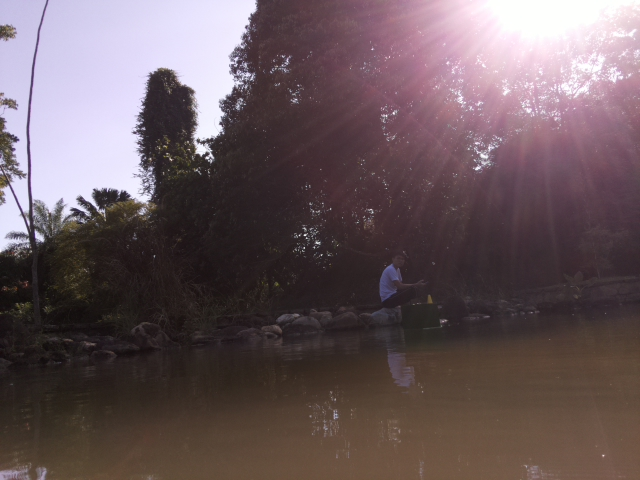checkpoint: (425, 295, 437, 304)
obstacle: (400, 302, 442, 333)
